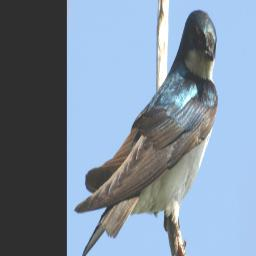Swallow: (73, 10, 218, 256)
